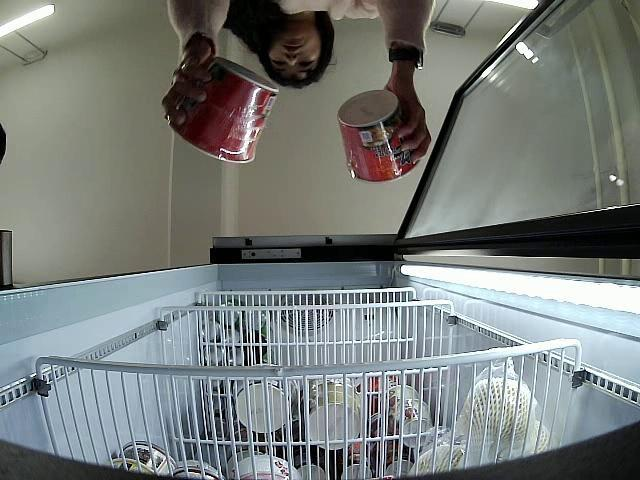01_ShinRamen_L: (168, 57, 280, 166), (338, 88, 419, 182)
